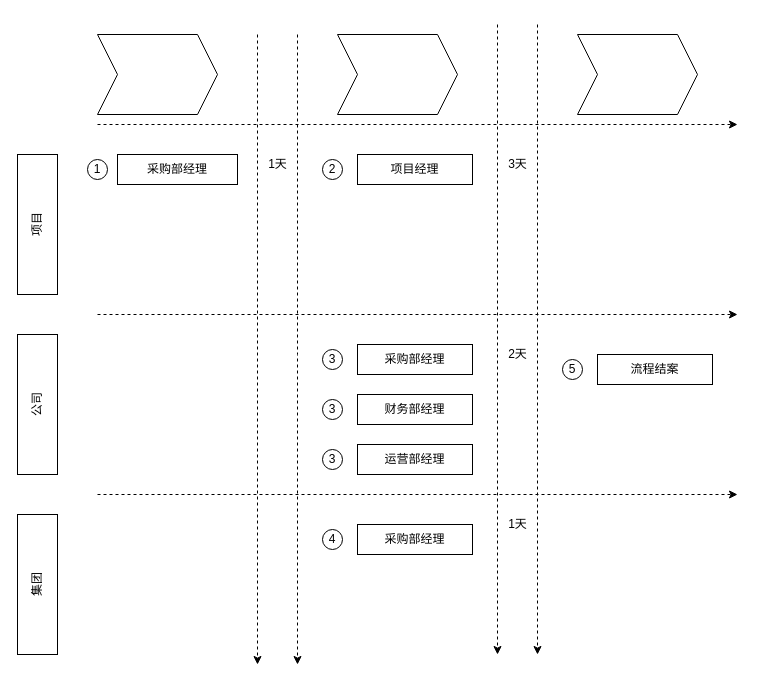
Some shapes in this 763 by 690 pixel diagram are drawn without their labels. Each missing label, with the centre of its shape:
采购发起: point (157, 74)
采购审批: point (397, 74)
采购结案: point (637, 74)
